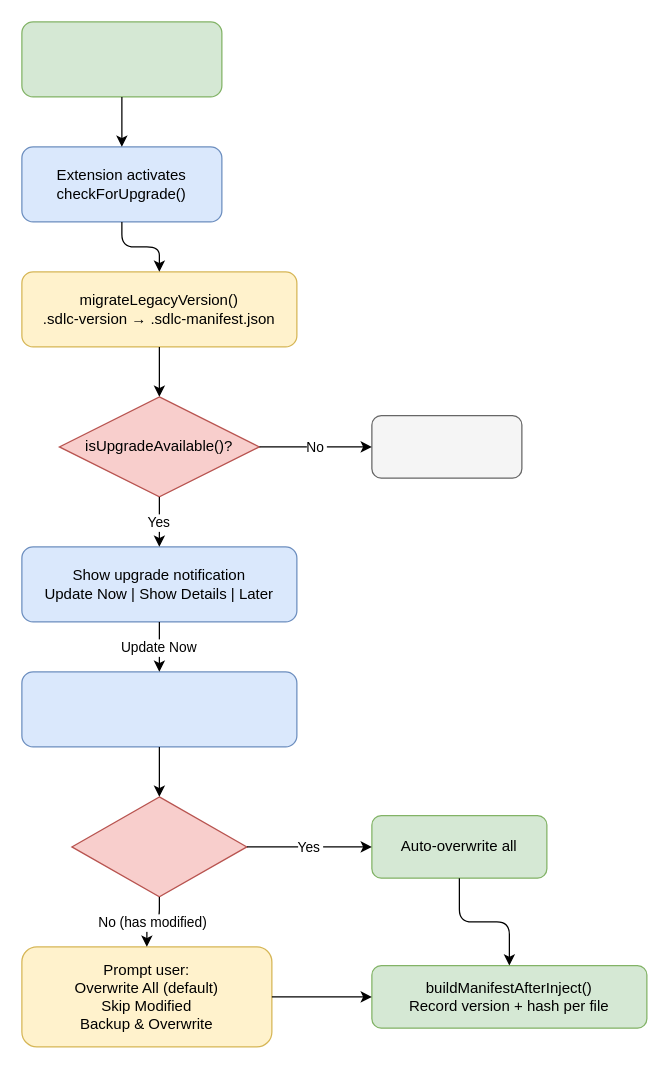
The diagram is 669 pixels wide and 1069 high, and some of its shapes have lost their labels. Each missing label, with the box of its shape:
No action: (371, 414, 522, 478)
Only outdated?: (71, 796, 247, 897)
safeUpdate() Classify files: outdated / modified: (21, 671, 297, 747)
User installs new extension version: (21, 21, 222, 97)
